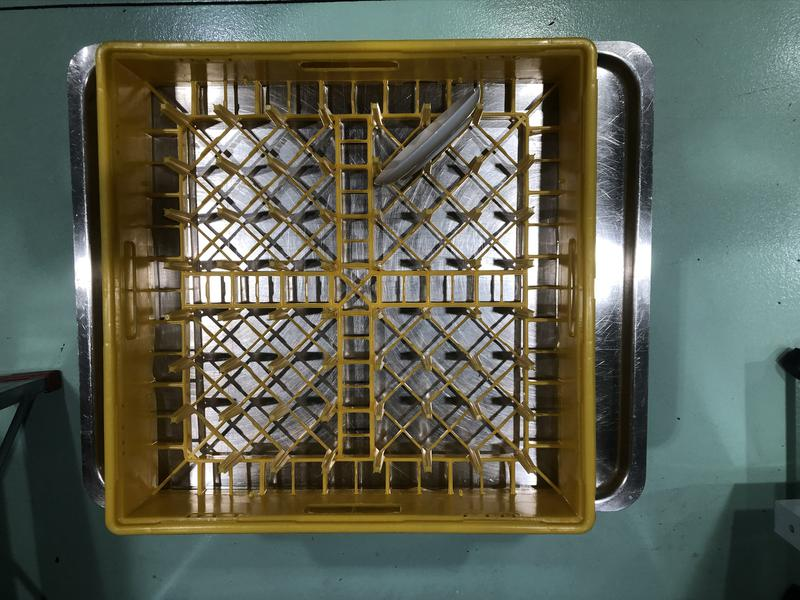Inclined_dish: (376, 89, 478, 185)
